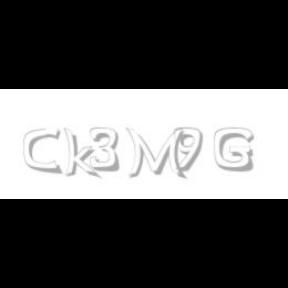3: (89, 128, 120, 172)
9: (174, 128, 202, 172)
C: (24, 128, 60, 174)
G: (214, 128, 254, 172)
M: (125, 128, 184, 180)
k: (63, 128, 101, 180)
